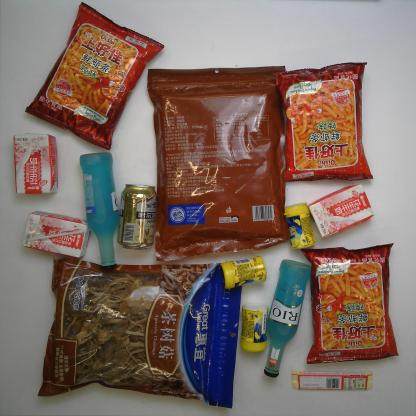Alcohol: (263, 257, 312, 379), (78, 150, 120, 272), (116, 182, 158, 250)
Chocolate: (290, 368, 374, 392)
Dried Food: (38, 257, 244, 409), (145, 63, 290, 262)
Gum: (219, 254, 268, 290), (284, 202, 318, 250), (239, 302, 270, 353)
Milk: (305, 184, 375, 239), (21, 210, 92, 258), (11, 131, 59, 195)
Puffed Food: (23, 1, 166, 150), (273, 60, 375, 182), (300, 242, 400, 364)
